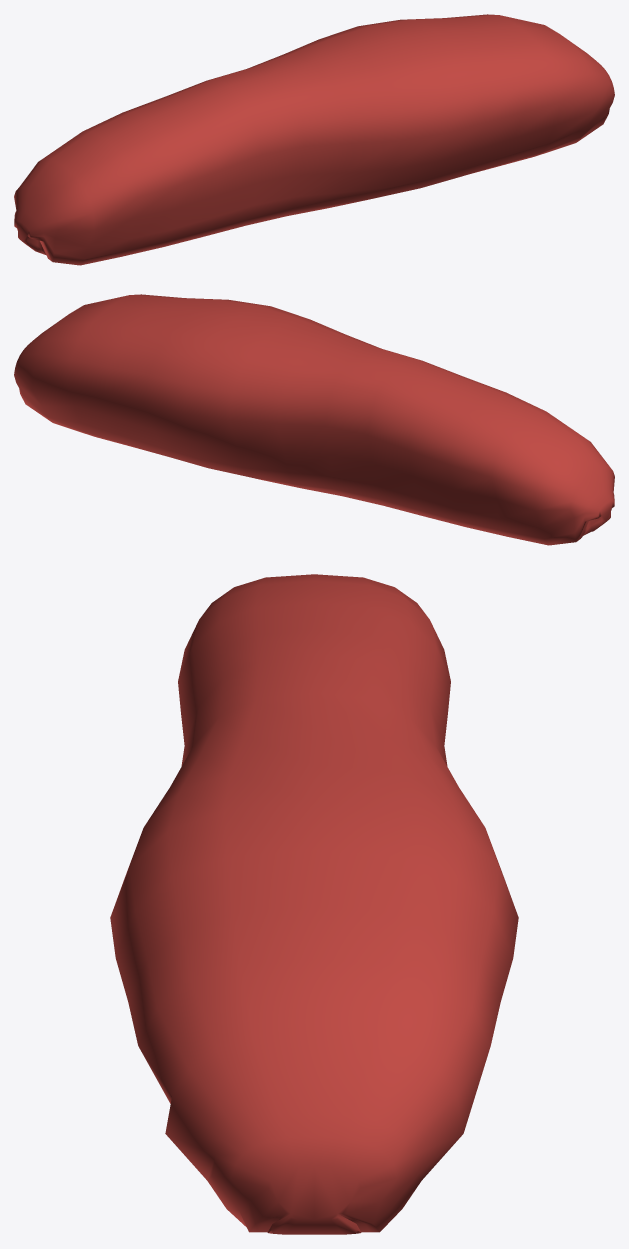
Rendered from cafe_lod1.glb.
3 views of the same model, one above another, from view 1: azimuth 30°, elevation 25°; view 2: azimuth 150°, elevation 25°; view 3: azimuth 270°, elevation 25° (orthographic). The views are drawn at different scales.
Parts seen in each view (by area): view 1: cafe_lod1; view 2: cafe_lod1; view 3: cafe_lod1.
Boxes of the visible parts, x1=… form: cafe_lod1: x1=14, y1=14, x2=614, y2=265; cafe_lod1: x1=14, y1=294, x2=614, y2=545; cafe_lod1: x1=110, y1=574, x2=518, y2=1234.
Bounding box in the file's own units: 1 × 0.2295 × 0.3057.
